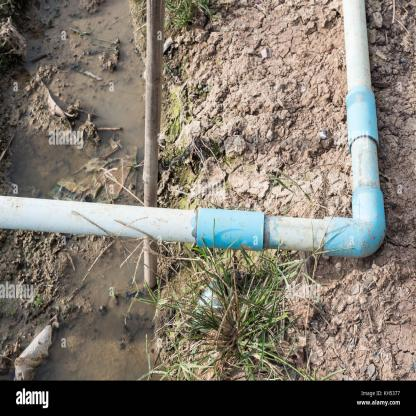PVC: (0, 0, 384, 258)
